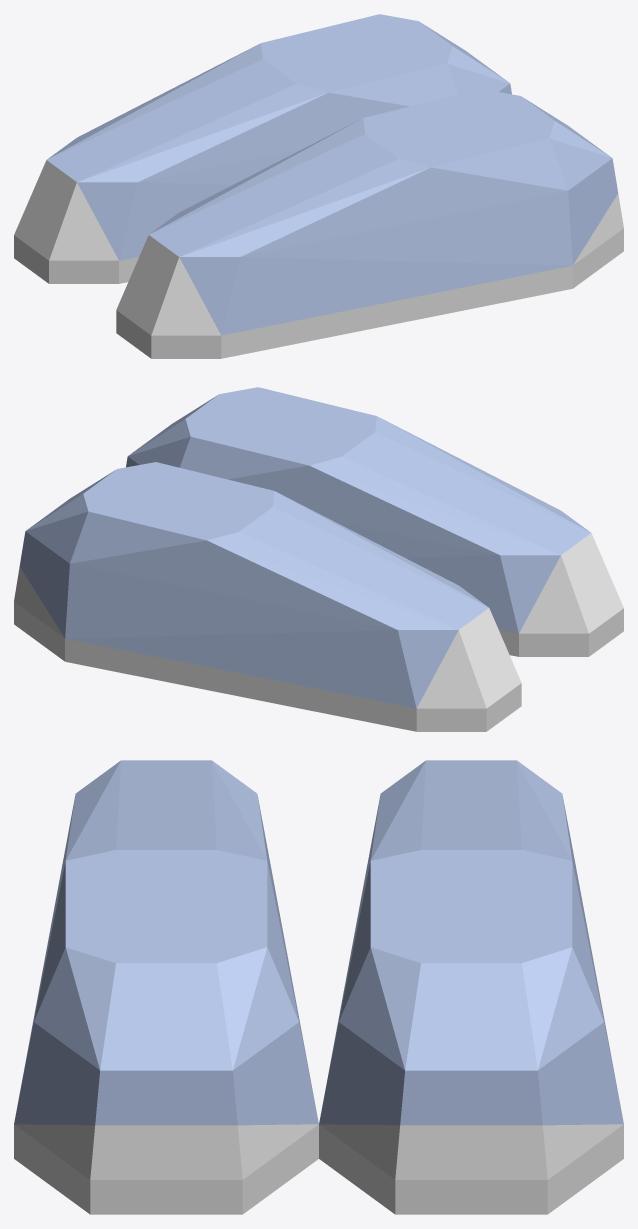
File: SportShoes.fbx
3 renders of one model, top to bottom at view 1: azimuth 30°, elevation 25°; view 2: azimuth 150°, elevation 25°; view 3: azimuth 270°, elevation 25°, orthographic. The views are drawn at different scales.
Visible parts, largest first — view 1: SportShoes; view 2: SportShoes; view 3: SportShoes.
Part boxes in pixels (x1,y1,x2,y2): SportShoes: (14,14,623,358); SportShoes: (14,387,623,731); SportShoes: (14,760,623,1214).
Size of the model in its own units: 0.2098 by 0.06 by 0.16.
